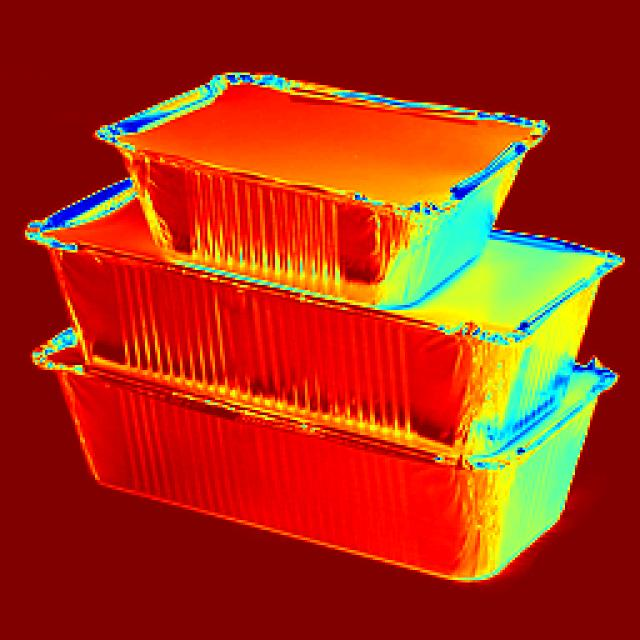Aluminium Food Cans: (42, 334, 611, 583), (14, 204, 604, 407), (111, 55, 528, 287)
